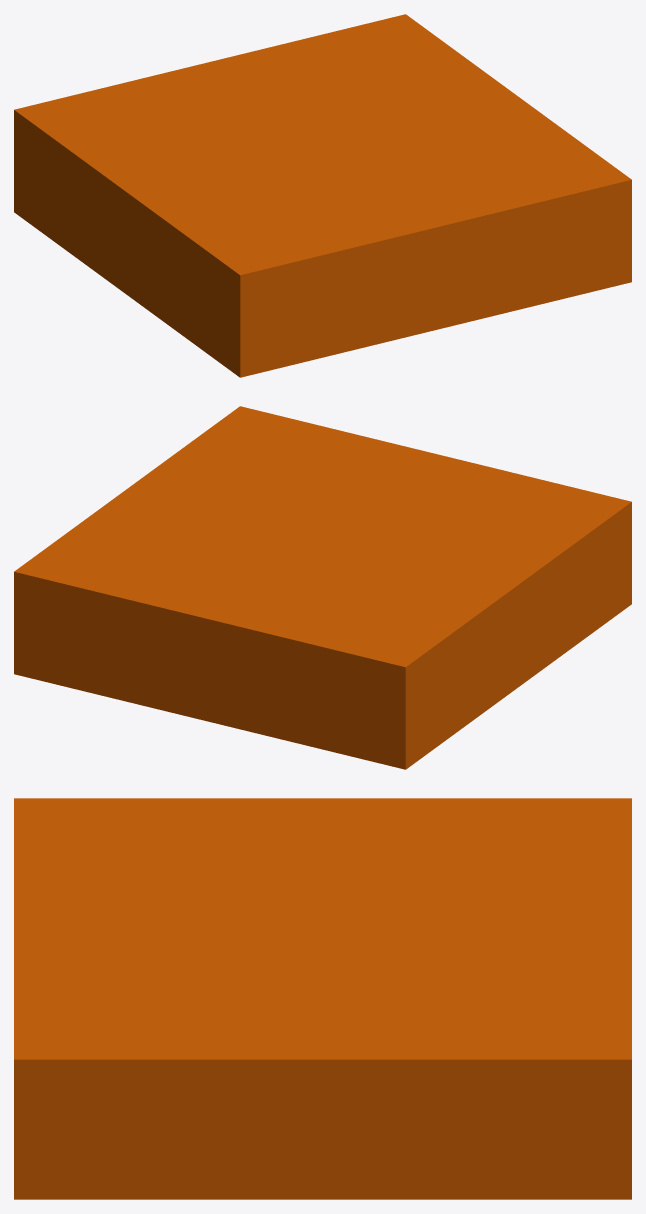
File: CityUnderground.fbx
3 views of the same model, one above another, from view 1: azimuth 30°, elevation 25°; view 2: azimuth 150°, elevation 25°; view 3: azimuth 270°, elevation 25° (orthographic). The views are drawn at different scales.
Visible parts, largest first — view 1: Add; view 2: Add; view 3: Add.
Boxes of the visible parts, x1=… form: Add: x1=14, y1=14, x2=631, y2=377; Add: x1=14, y1=406, x2=631, y2=769; Add: x1=14, y1=798, x2=631, y2=1199.
Size of the model in its own units: 20000 by 5000 by 20000.
